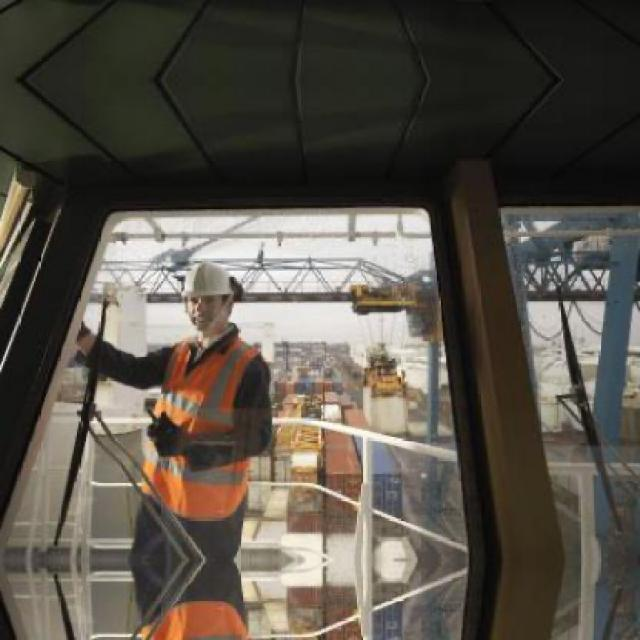reflective_jacket: (132, 332, 273, 535), (101, 594, 270, 639)
safety_helmet: (172, 254, 245, 308)
